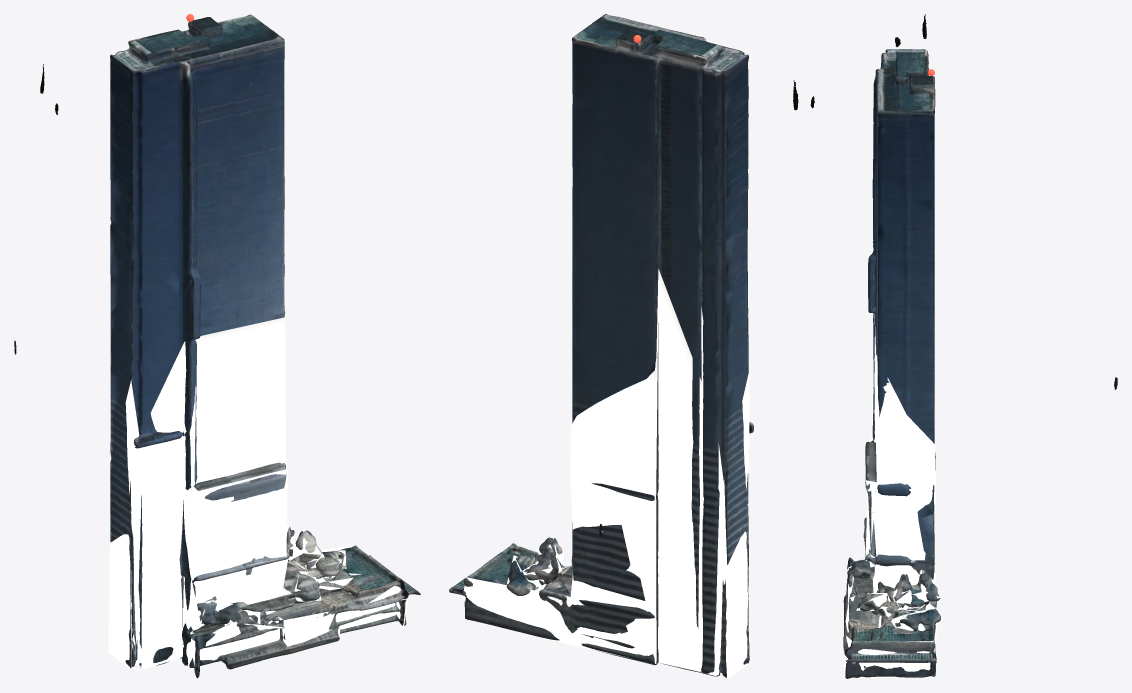
File: sky-white.glb
3 renders of one model, left to right at view 1: azimuth 30°, elevation 25°; view 2: azimuth 150°, elevation 25°; view 3: azimuth 270°, elevation 25°, orthographic. The views are drawn at different scales.
Parts seen in each view (by area): view 1: Body, Accent; view 2: Body, Accent; view 3: Body, Accent.
Part boxes in pixels (x1=…): Body: x1=14, y1=14, x2=420, y2=678; Accent: x1=14, y1=317, x2=408, y2=670; Body: x1=449, y1=14, x2=814, y2=677; Accent: x1=463, y1=269, x2=756, y2=678; Body: x1=843, y1=14, x2=1117, y2=678; Accent: x1=844, y1=314, x2=940, y2=678.
Bounding box in the file's own units: 103 × 183 × 83.66.
3 materials, 1 textured.
